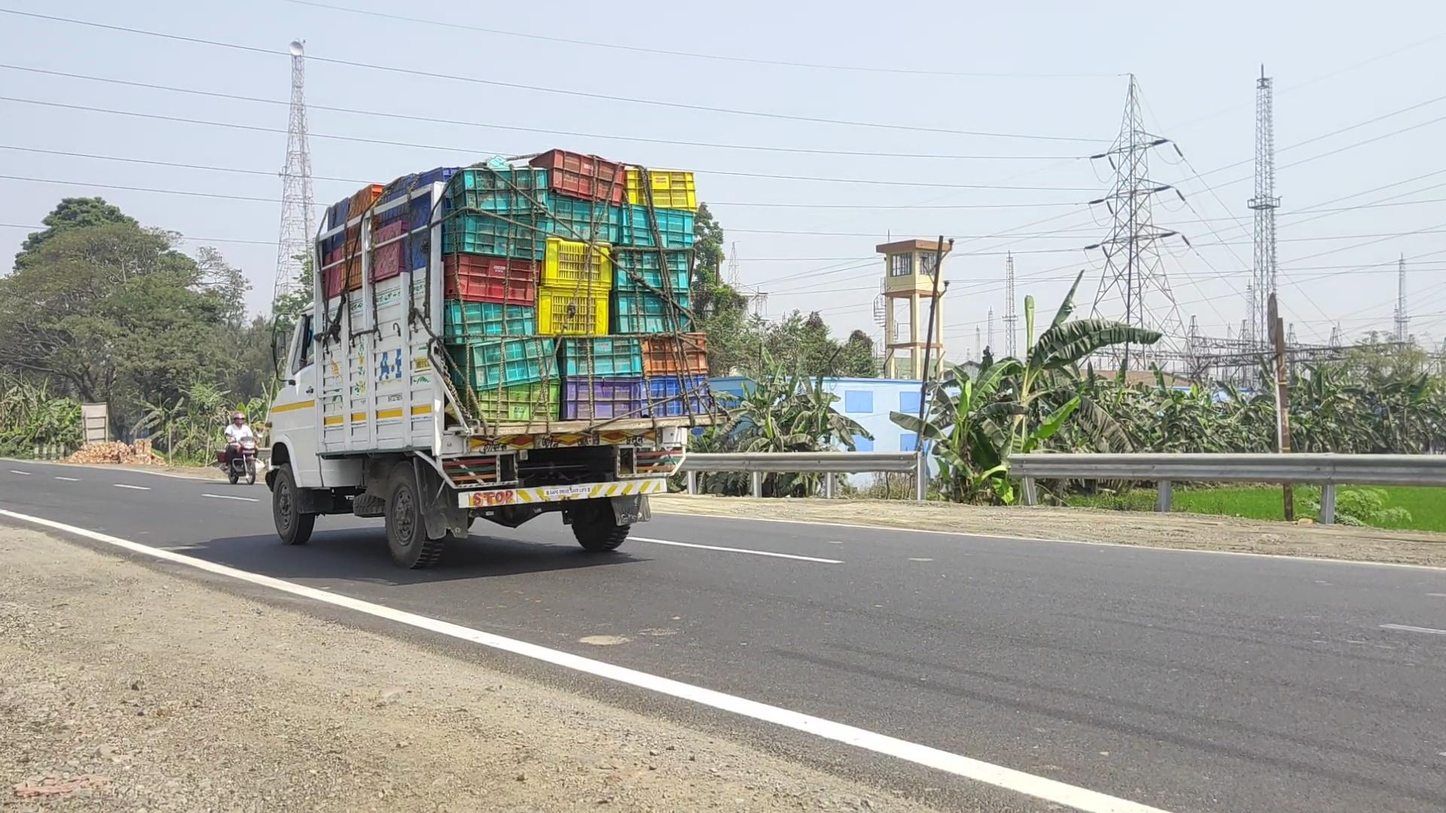bike: (217, 412, 263, 485)
truck: (265, 148, 732, 569)
